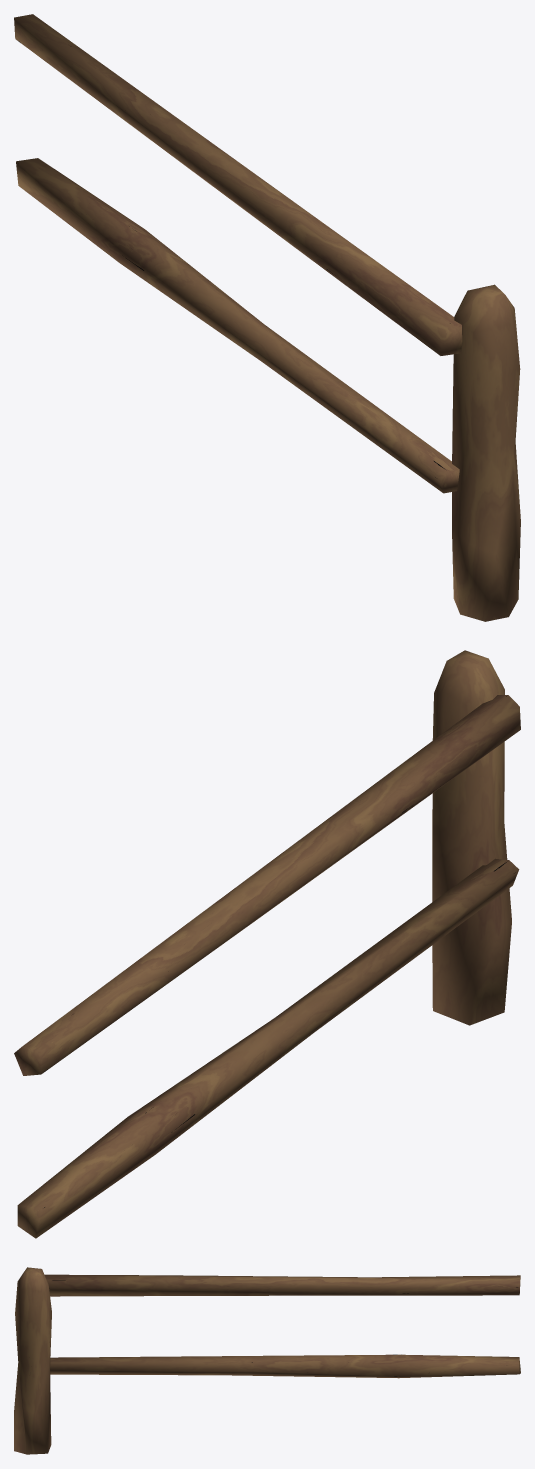
Rendered from fence.fbx.
3 views of the same model, one above another, from view 1: azimuth 30°, elevation 25°; view 2: azimuth 150°, elevation 25°; view 3: azimuth 270°, elevation 25° (orthographic). The views are drawn at different scales.
Visible parts, largest first — view 1: fence; view 2: fence; view 3: fence.
Part boxes in pixels (x1,y1,x2,y2): fence: [14, 14, 520, 621]; fence: [14, 650, 520, 1238]; fence: [14, 1267, 520, 1454].
Bounding box in the file's own units: 64.29 × 243 × 616.
